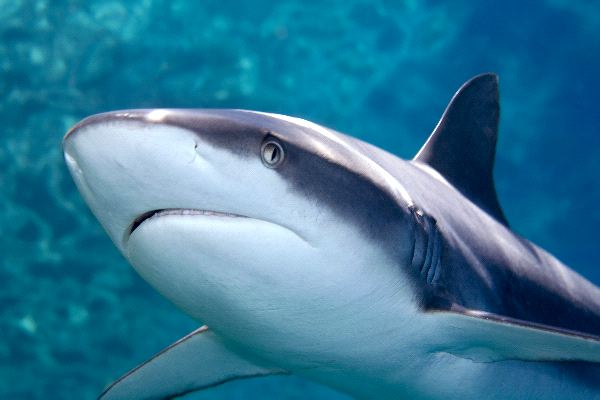Carcharhinus_amblyrhynchos: (39, 51, 600, 393)
